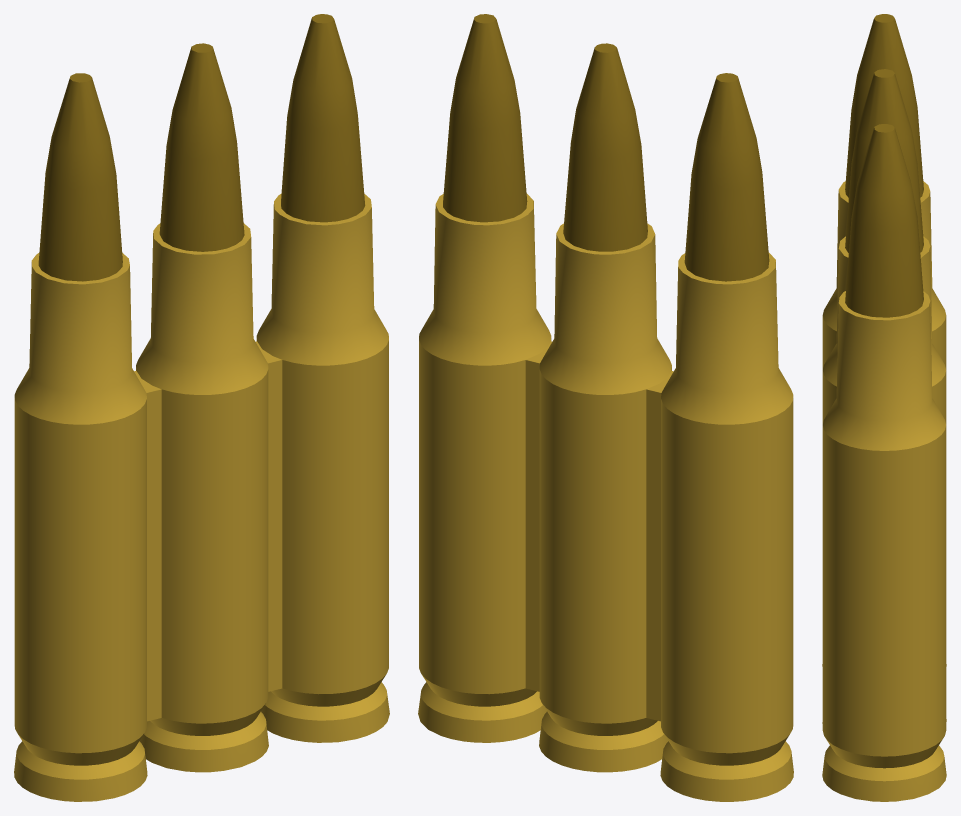
Rendered from ammo.glb.
The picture shows the model from 3 angles, left to right: view 1: azimuth 30°, elevation 25°; view 2: azimuth 150°, elevation 25°; view 3: azimuth 270°, elevation 25°; orthographic projection. The views are drawn at different scales.
Visible parts, largest first — view 1: ammo; view 2: ammo; view 3: ammo.
Part boxes in pixels (bbox=[...]): ammo: bbox=[14, 14, 389, 801]; ammo: bbox=[418, 14, 793, 801]; ammo: bbox=[822, 14, 946, 801].
Bounding box in the file's own units: 0.0673 × 0.125 × 0.0218.
1 material, 1 textured.
